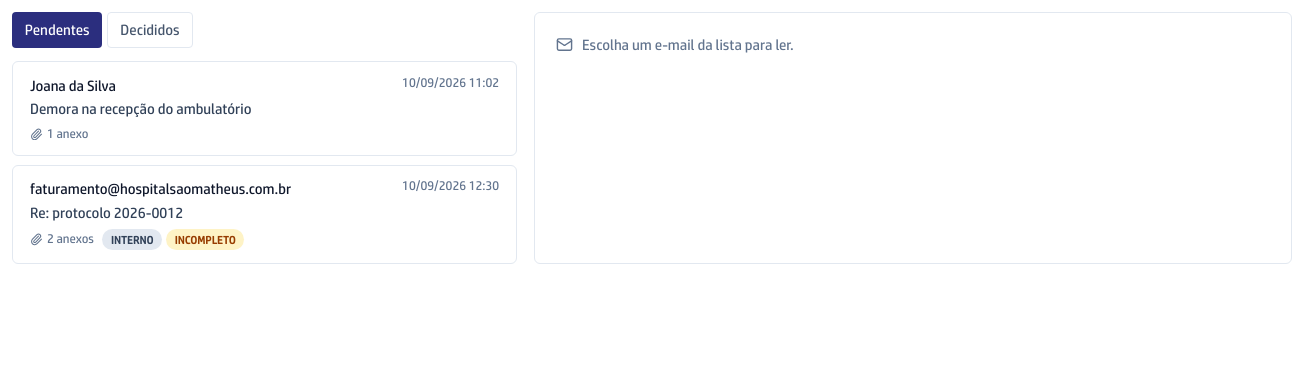
Test case: o painel do item › e-mail sem corpo em texto diz isso, sem inventar conteúdo
Click the button "Demora na recepção do ambulatório" at {"x": 73, "y": 85}, box [12,61,517,156]
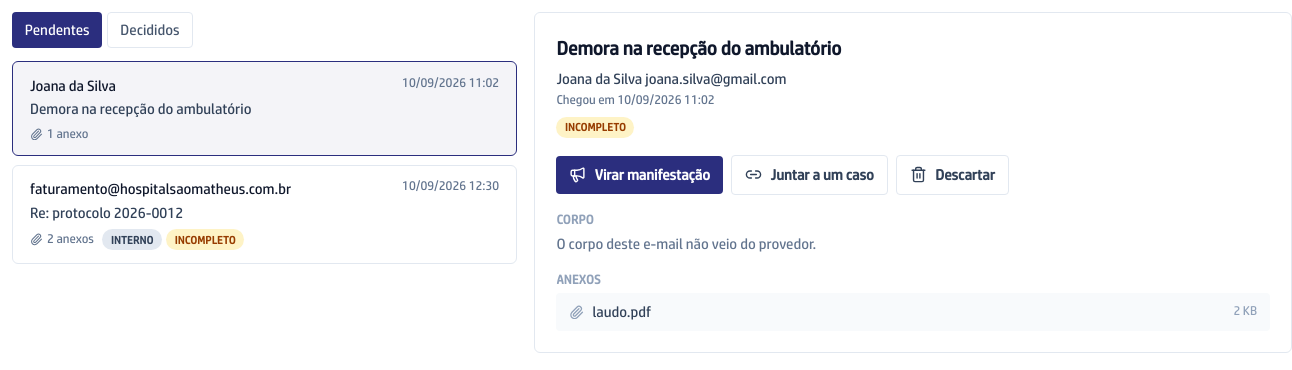
Now the text "O corpo deste e-mail não veio do provedor." is shown, box [556,235,816,252]
